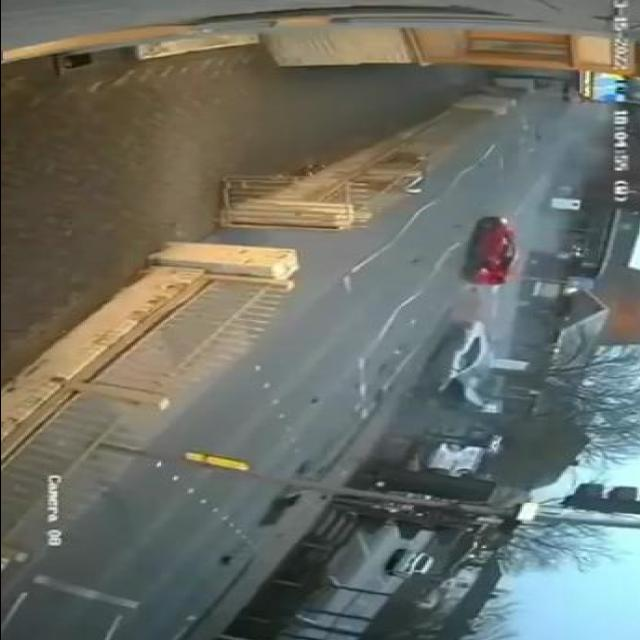accident: (410, 314, 510, 416), (452, 208, 536, 287)
